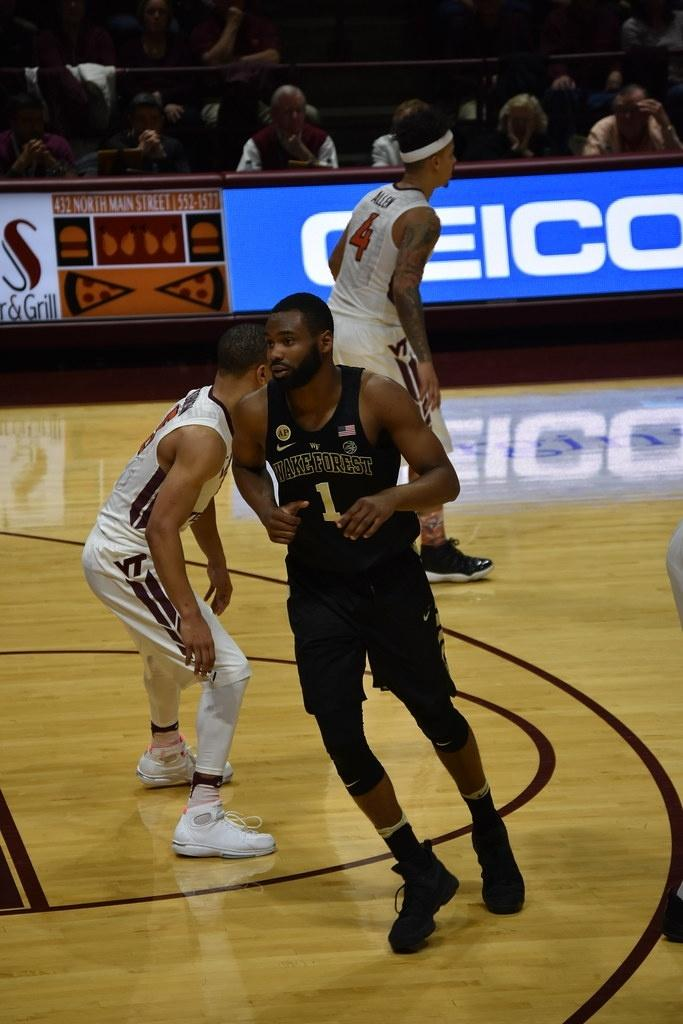basketball-player: (228, 291, 526, 953), (80, 320, 279, 859), (323, 102, 495, 585)
